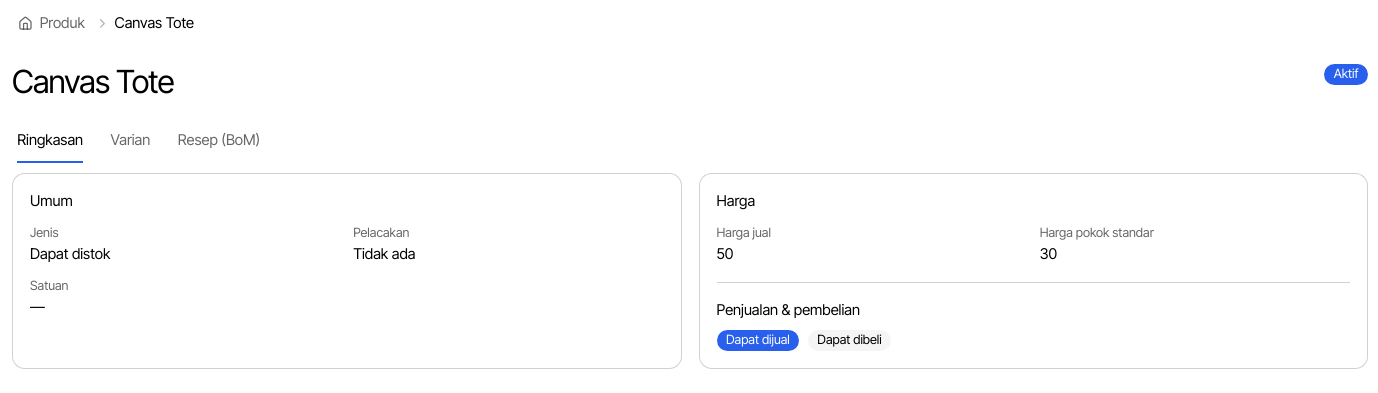
Test case: ProductDetail › shows variants on the variants tab
Click the tab "Varian": (130, 141) 110,117 -> 151,164
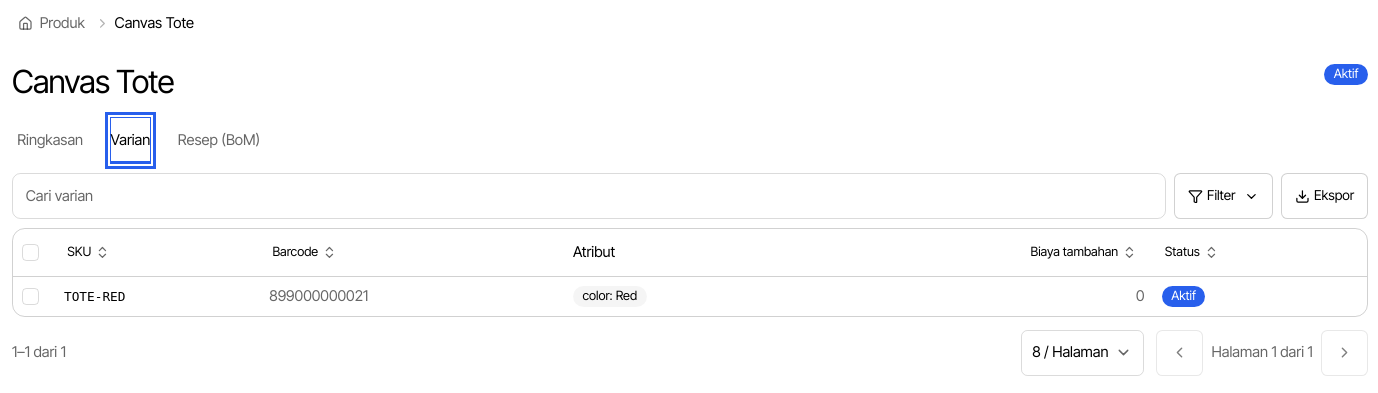
expect the text "TOTE-RED" is shown: met, box 64,289 -> 125,304
